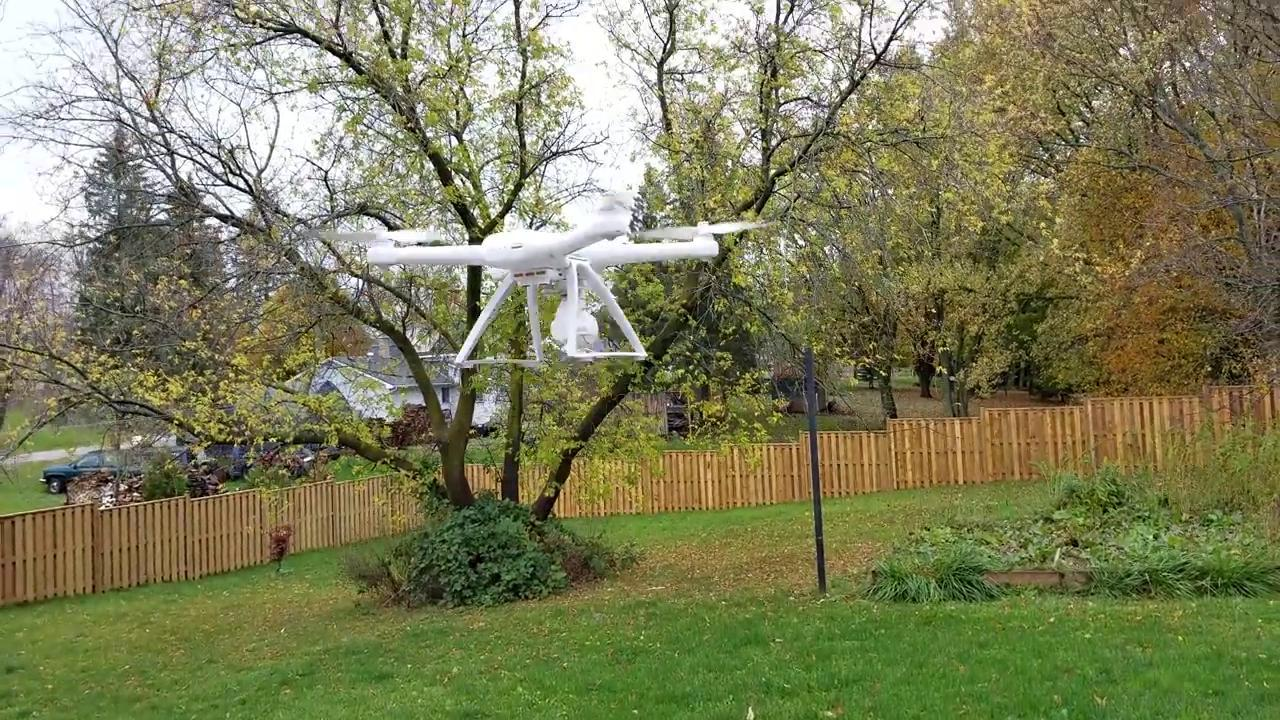drone: (284, 188, 776, 380)
